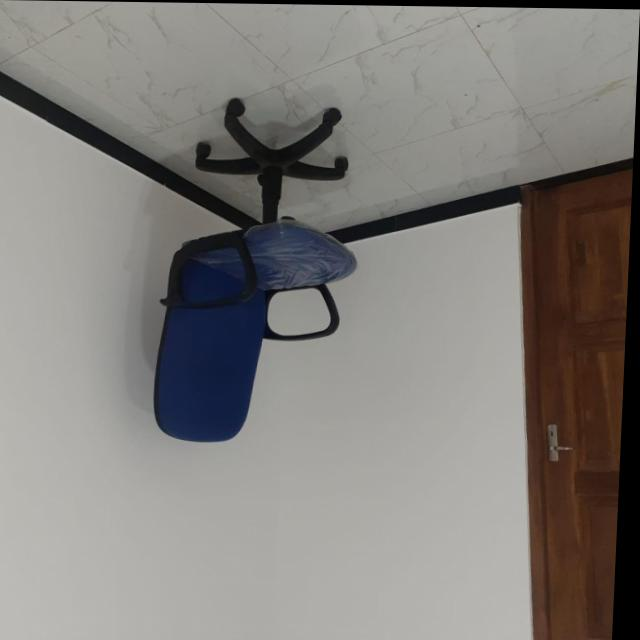Chair: (154, 97, 367, 444)
